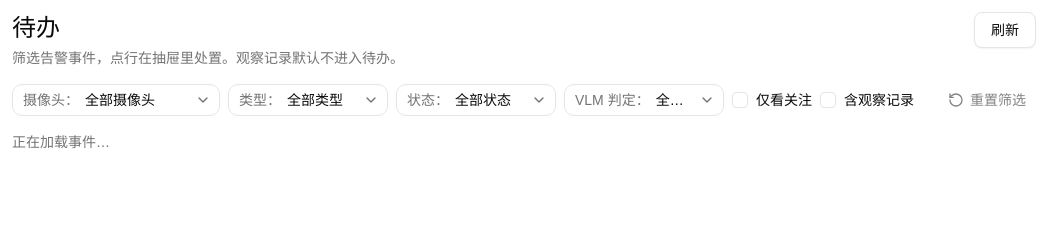
it: EventsPage filters › resets all filters back to their defaults
The image size is (1048, 244).
Expected: the dropdown named "类型：全部类型" is shown, x1=228 y1=84 x2=388 y2=116
Click the checkbox named "仅看关注" next to "仅看关注" at (740, 100), box x1=732 y1=92 x2=748 y2=108
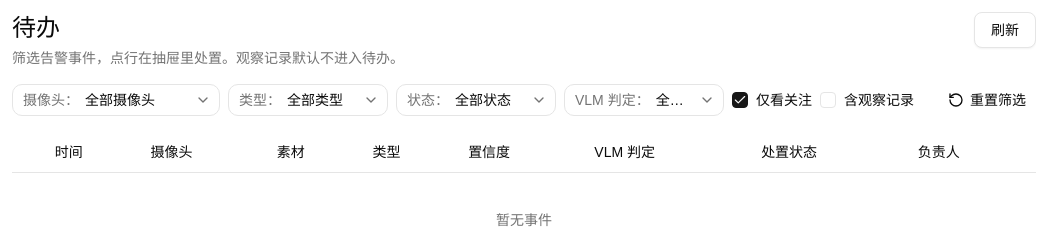
Expected: the checkbox named "仅看关注" next to "仅看关注" is checked, x1=732 y1=92 x2=748 y2=108
Expected: the button "重置筛选" is enabled
Click the button "重置筛选" at (987, 100), box x1=938 y1=84 x2=1036 y2=116
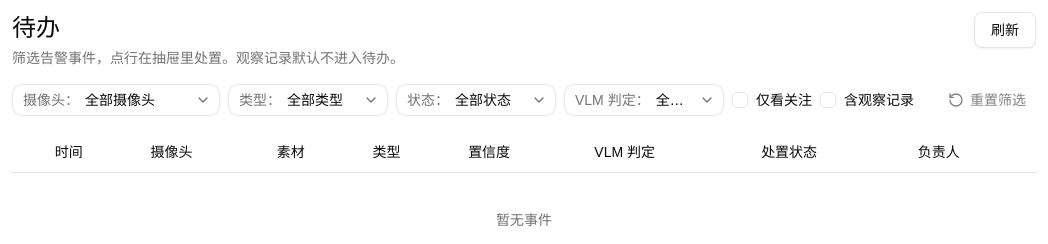
Expected: the dropdown named "类型：全部类型" is shown, x1=228 y1=84 x2=388 y2=116
Expected: the checkbox named "仅看关注" next to "仅看关注" is not checked, x1=732 y1=92 x2=748 y2=108
Expected: the button "重置筛选" is disabled, x1=938 y1=84 x2=1036 y2=116
